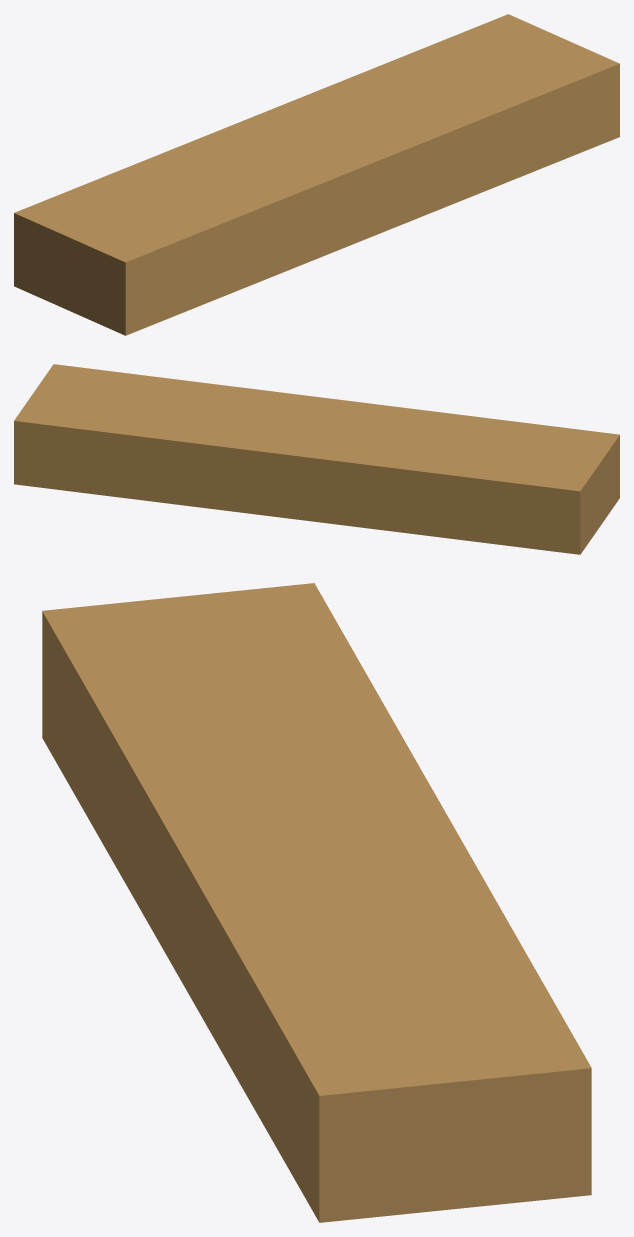
3 views of the same model, one above another, from view 1: azimuth 30°, elevation 25°; view 2: azimuth 150°, elevation 25°; view 3: azimuth 270°, elevation 25° (orthographic). The views are drawn at different scales.
Visible parts, largest first — view 1: RUN-018-S01-NOG-01; view 2: RUN-018-S01-NOG-01; view 3: RUN-018-S01-NOG-01.
Boxes of the visible parts, bbox=[...] form: RUN-018-S01-NOG-01: bbox=[14, 14, 619, 335]; RUN-018-S01-NOG-01: bbox=[14, 364, 619, 554]; RUN-018-S01-NOG-01: bbox=[42, 583, 591, 1222].
Size of the model in its own units: 0.3899 by 0.045 by 0.1766.
